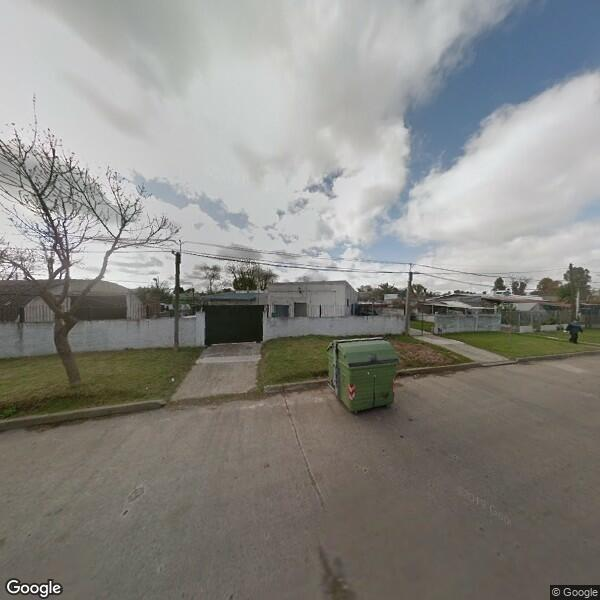Trash: (324, 337, 402, 422)
